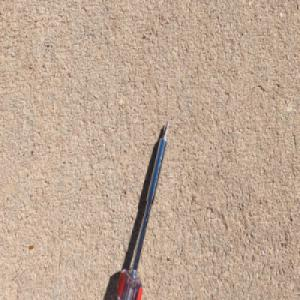Screwdriver: (112, 119, 170, 300)
